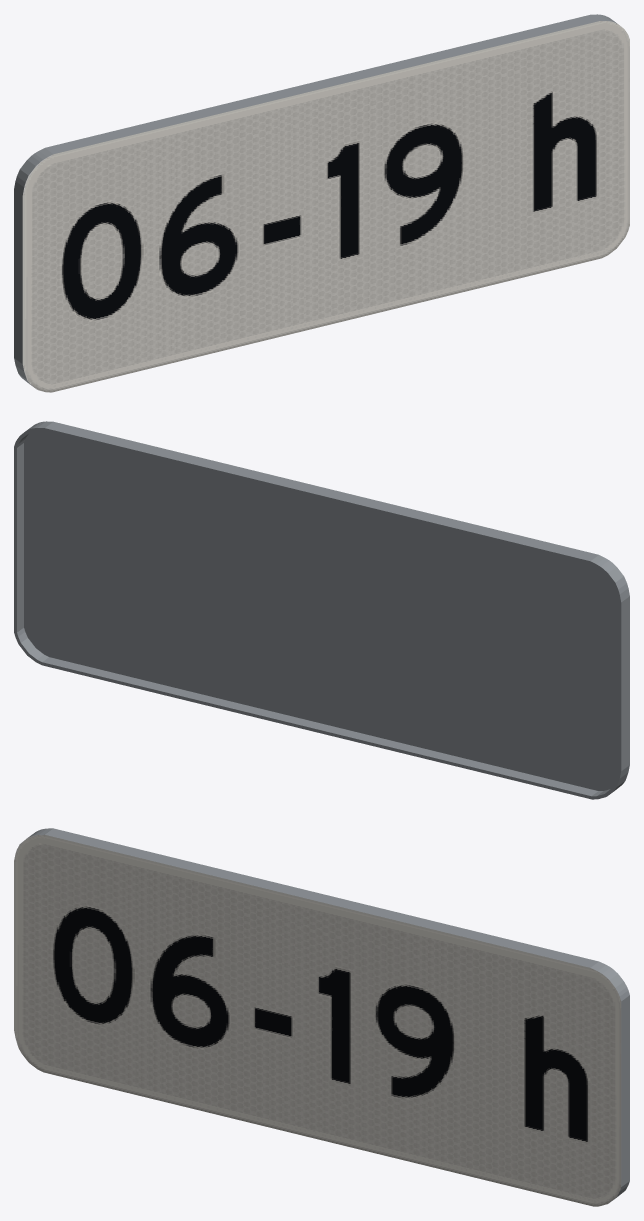
3 renders of one model, top to bottom at view 1: azimuth 30°, elevation 25°; view 2: azimuth 150°, elevation 25°; view 3: azimuth 330°, elevation 25°, orthographic.
Visible parts, largest first — view 1: cat_7d32fb66b2a61a82; view 2: cat_7d32fb66b2a61a82; view 3: cat_7d32fb66b2a61a82.
Part boxes in pixels (box(x1,y1,x2,y2)): cat_7d32fb66b2a61a82: box(14, 14, 629, 392); cat_7d32fb66b2a61a82: box(14, 421, 629, 799); cat_7d32fb66b2a61a82: box(14, 828, 629, 1206).
Size of the model in its own units: 0.6 by 0.015 by 0.2246.
Materials: 2 (1 with a texture image).
